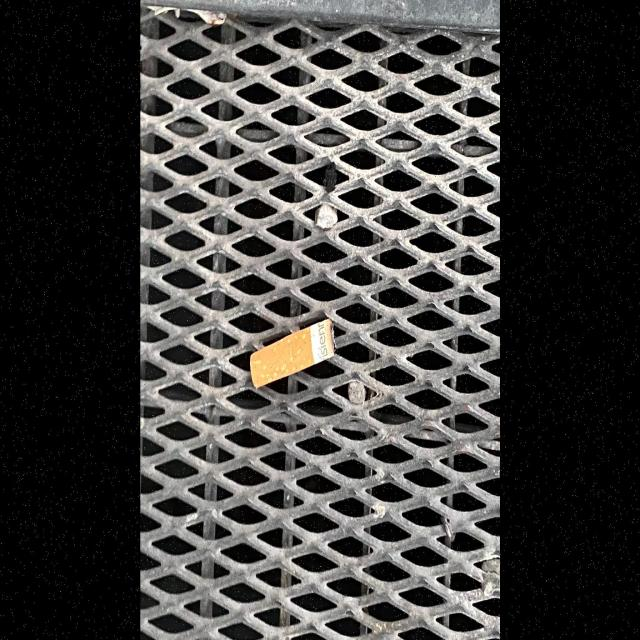other waste: (248, 316, 338, 389)
